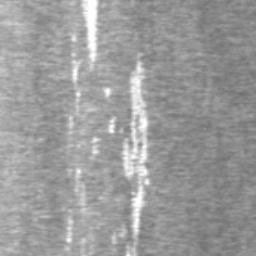White rust: (121, 51, 151, 256), (81, 0, 98, 72), (73, 169, 86, 207), (70, 52, 84, 83), (65, 216, 75, 243), (90, 136, 102, 154), (108, 116, 117, 134), (68, 112, 74, 133), (104, 87, 111, 97)
